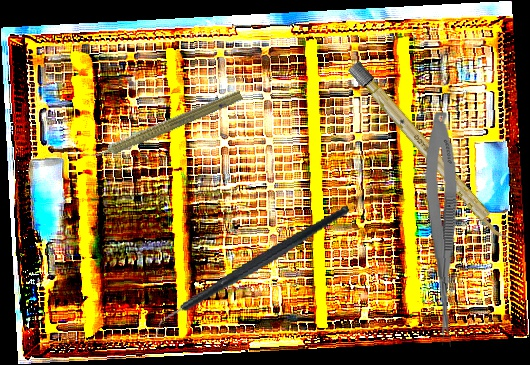Chopper: (134, 204, 367, 342)
Handpiece: (81, 83, 245, 169)
Micro Scissor: (421, 110, 467, 348)
Scalpel Handle: (347, 60, 511, 245)
